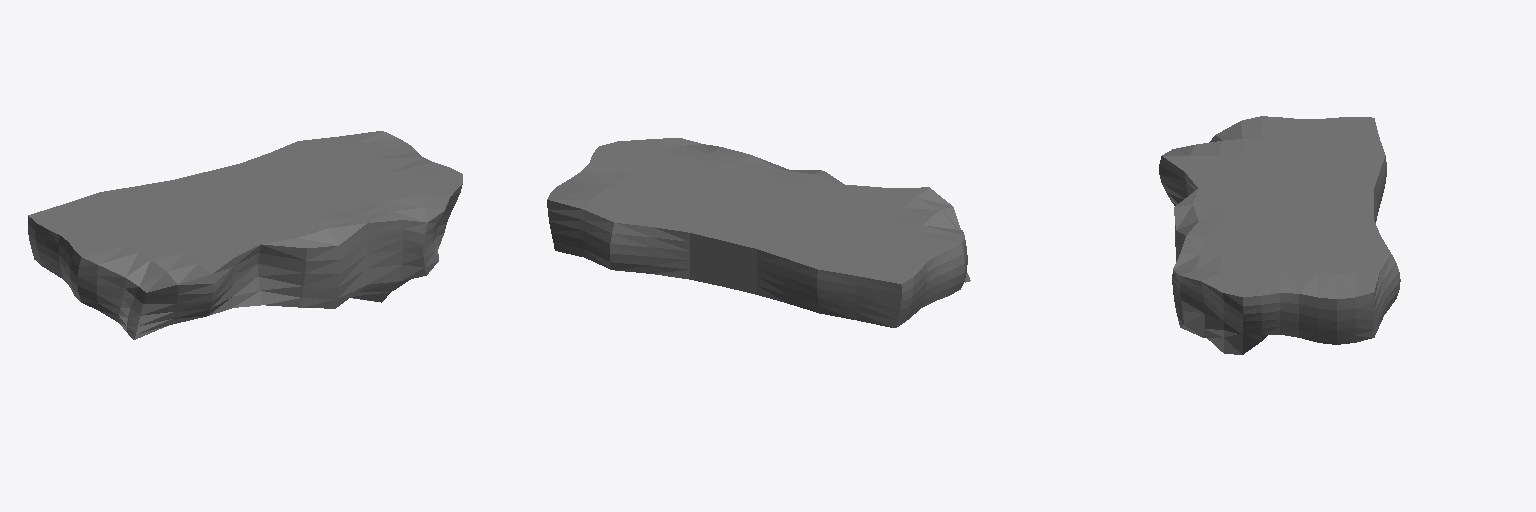
File: GroundThree.obj
3 renders of one model, left to right at view 1: azimuth 30°, elevation 25°; view 2: azimuth 150°, elevation 25°; view 3: azimuth 270°, elevation 25°, orthographic.
Visible parts, largest first — view 1: GroundThree; view 2: GroundThree; view 3: GroundThree.
Boxes of the visible parts, x1=… form: GroundThree: x1=28, y1=131, x2=462, y2=339; GroundThree: x1=547, y1=138, x2=970, y2=327; GroundThree: x1=1159, y1=116, x2=1400, y2=354.
Bounding box in the file's own units: 5.58 × 1.46 × 3.11.